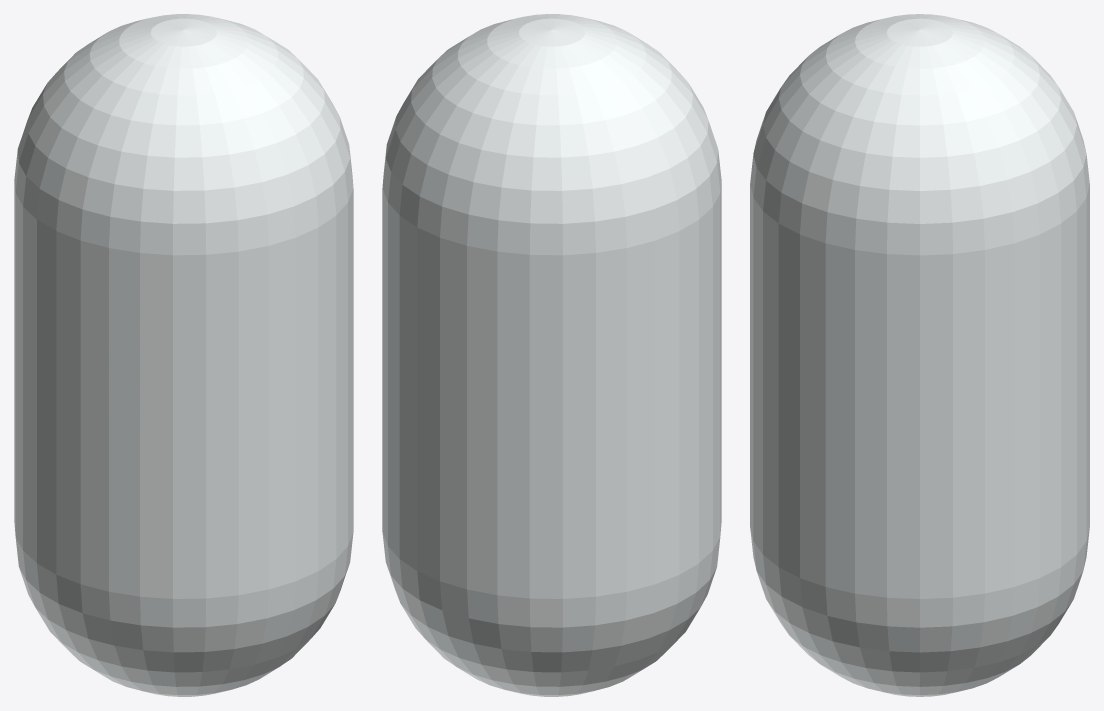
The model's file is LegsRounded.fbx.
The picture shows the model from 3 angles, left to right: view 1: azimuth 30°, elevation 25°; view 2: azimuth 150°, elevation 25°; view 3: azimuth 270°, elevation 25°; orthographic projection.
Visible parts, largest first — view 1: Sphere; view 2: Sphere; view 3: Sphere.
Part boxes in pixels (x1,y1,x2,y2): Sphere: (14, 14, 353, 696); Sphere: (382, 14, 721, 696); Sphere: (750, 14, 1089, 696).
Size of the model in its own units: 170 by 360 by 170.
